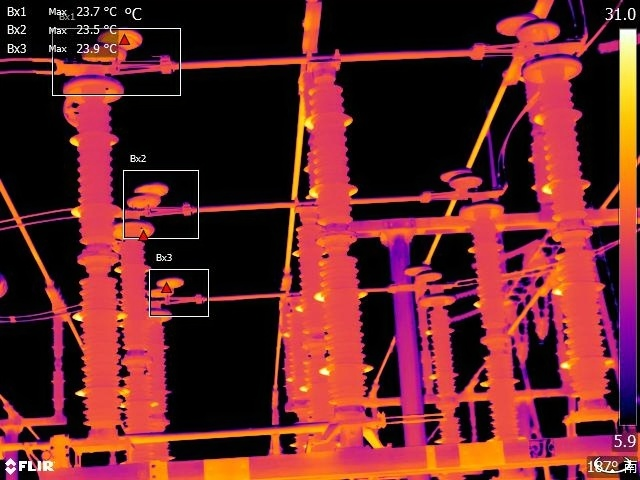post insulator: (537, 76, 608, 402), (311, 78, 378, 399), (75, 96, 120, 436), (474, 231, 522, 445), (287, 218, 335, 411), (116, 239, 158, 431), (423, 304, 466, 437), (281, 314, 310, 417), (149, 326, 174, 445), (48, 311, 66, 414)
switch: (59, 13, 576, 109), (114, 169, 487, 228), (148, 262, 441, 320)
